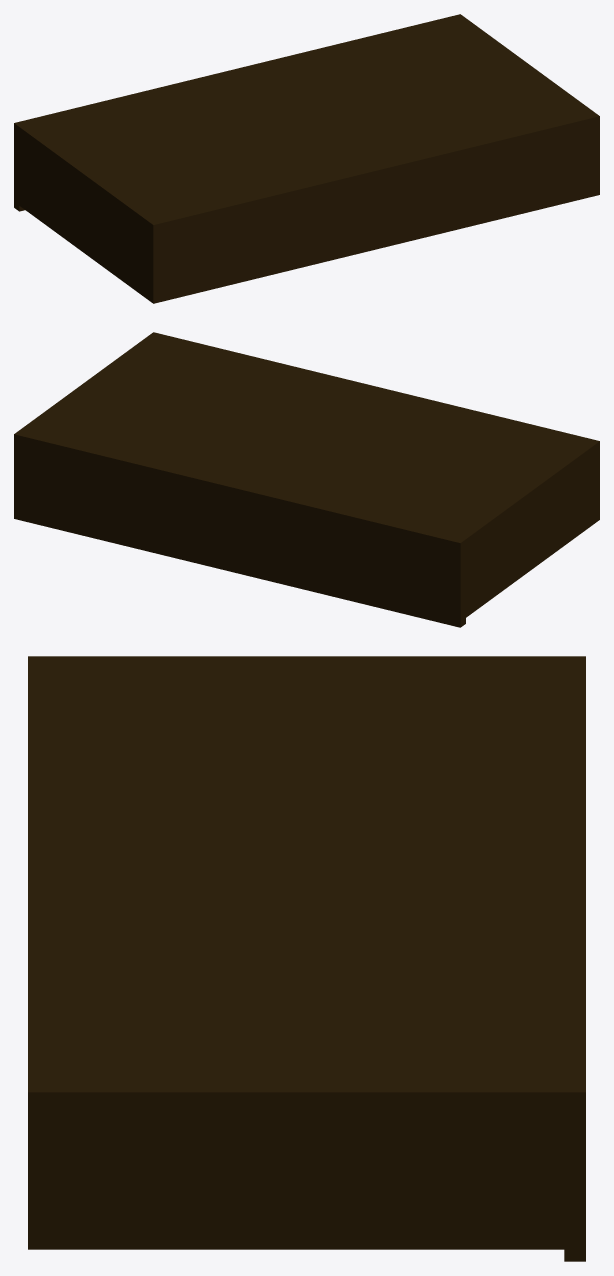
File: cabinet_big.obj
The picture shows the model from 3 angles, top to bottom: view 1: azimuth 30°, elevation 25°; view 2: azimuth 150°, elevation 25°; view 3: azimuth 270°, elevation 25°; orthographic projection. The views are drawn at different scales.
Parts seen in each view (by area): view 1: cabinet_big; view 2: cabinet_big; view 3: cabinet_big.
Part boxes in pixels (box(x1,y1,x2,y2)): cabinet_big: box(14, 14, 599, 303); cabinet_big: box(14, 332, 599, 627); cabinet_big: box(28, 656, 585, 1261).
Bounding box in the file's own units: 2375 × 430 × 1285.
